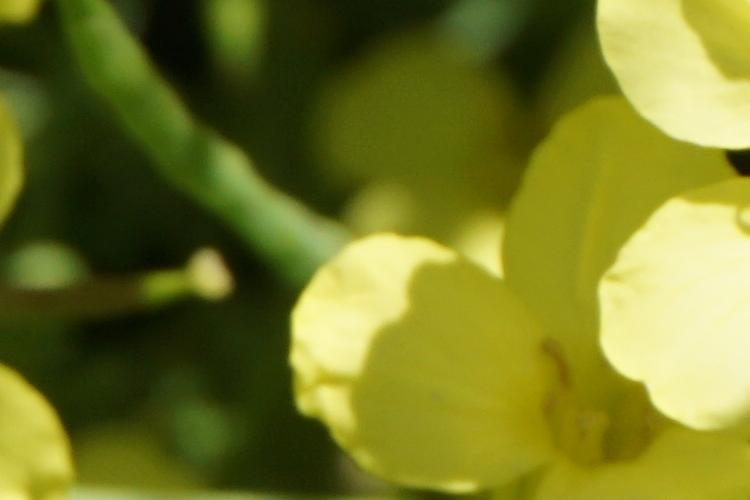pod: (12, 233, 236, 327)
yellow: (329, 119, 738, 480)
